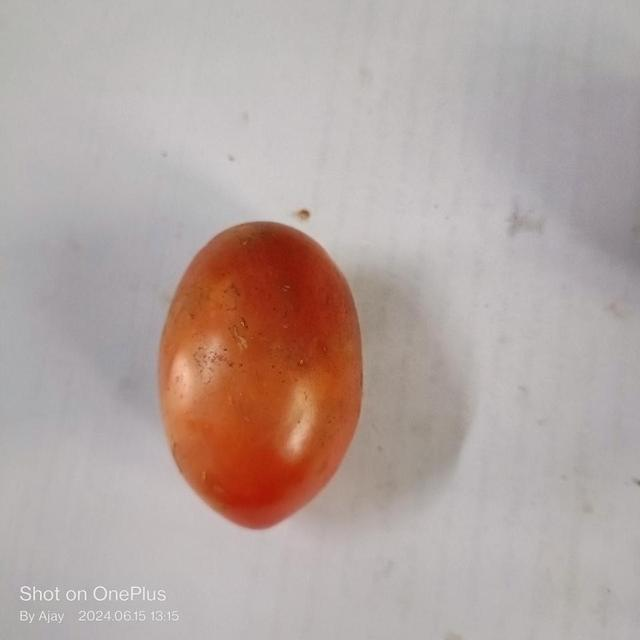Bacterial Spot Fruit: (197, 237, 206, 245)
